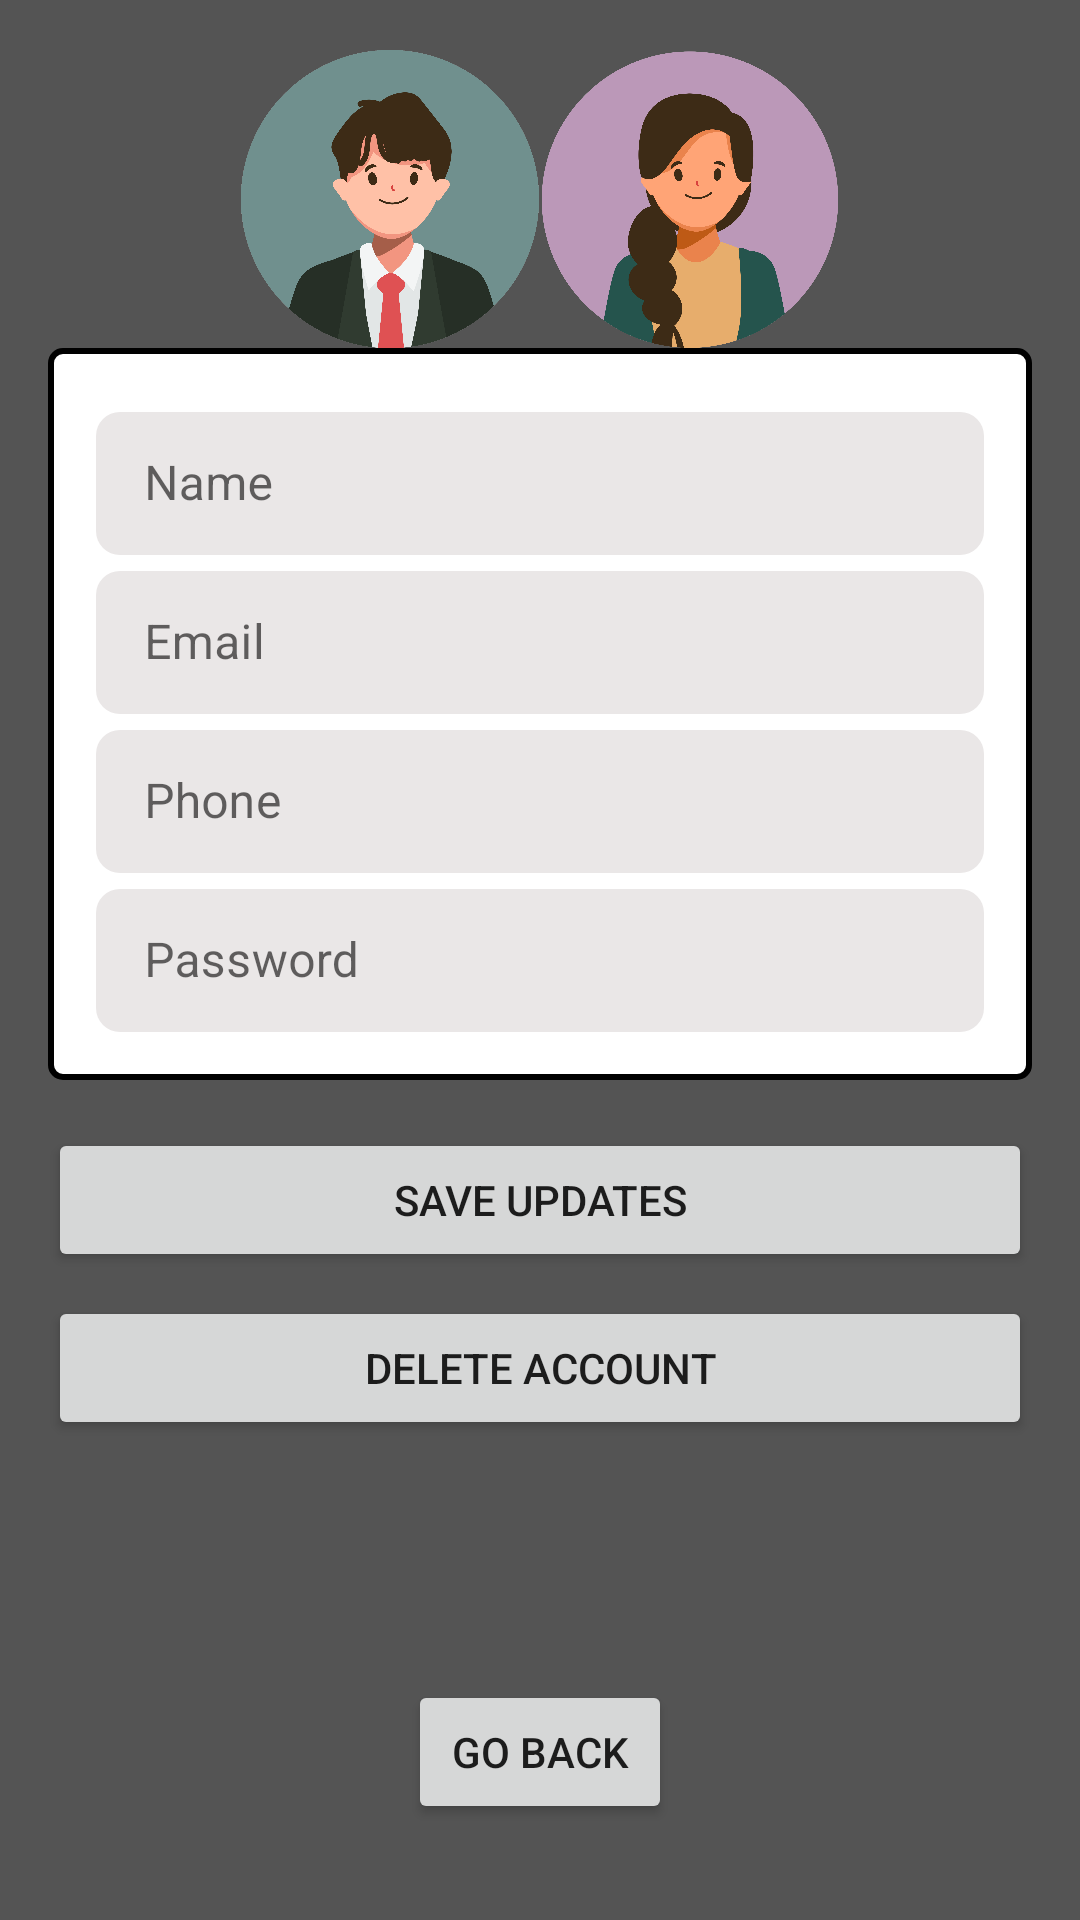

Locate icon controls on the screen. Image size 1080x1920, boxes as (x1, y1, x2, y2).
Female profile picture option: (542, 51, 838, 348)
Male profile picture option: (241, 50, 539, 348)
